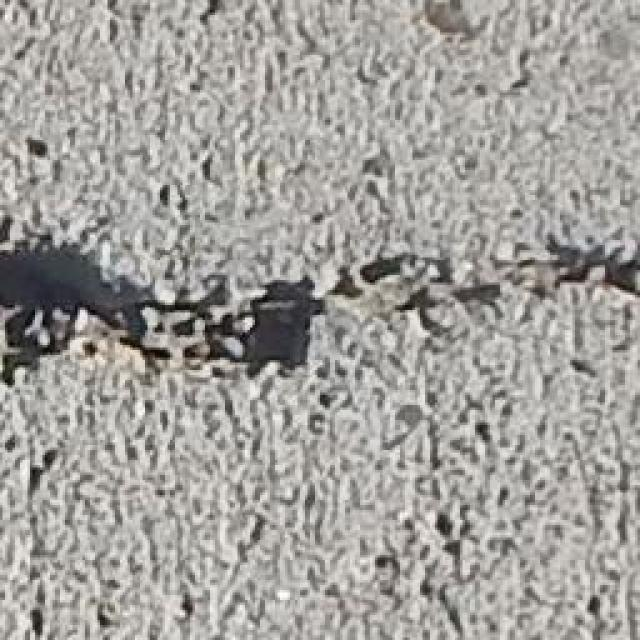concrete-crack: (0, 208, 640, 402)
